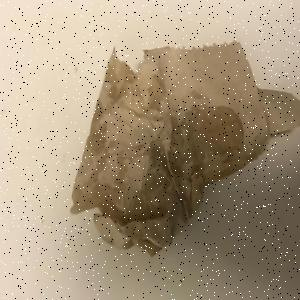Trash: (71, 40, 300, 261)
